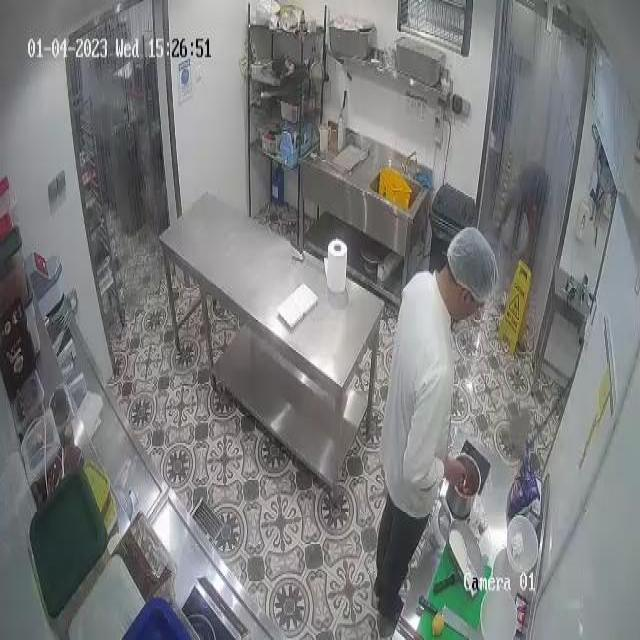hairnet: (450, 228, 498, 297)
